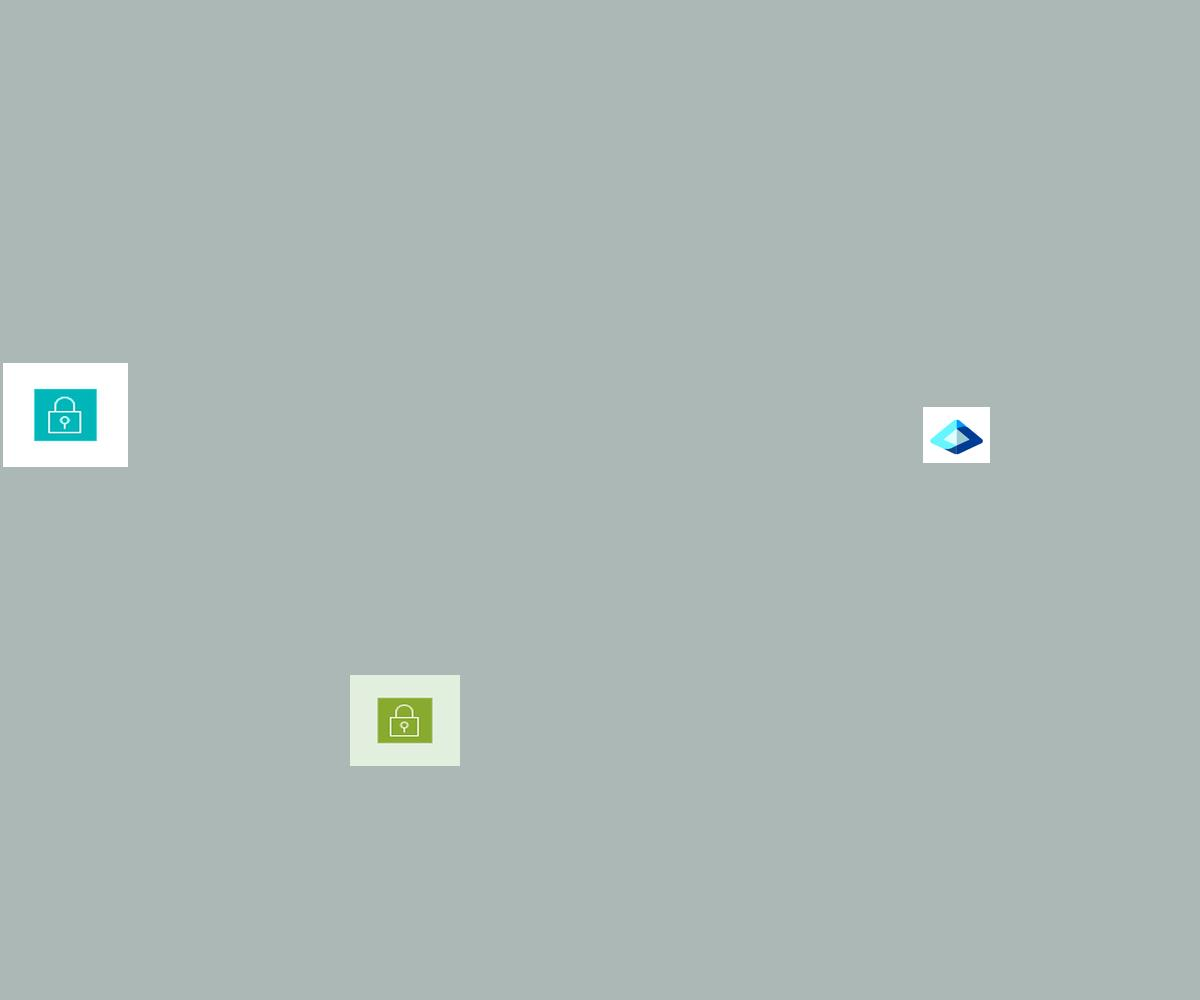AWS-Private-subnet: (3, 363, 128, 467)
AWS-Public-subnet: (350, 675, 460, 766)
Azure_microsoft_entra: (923, 407, 990, 463)
